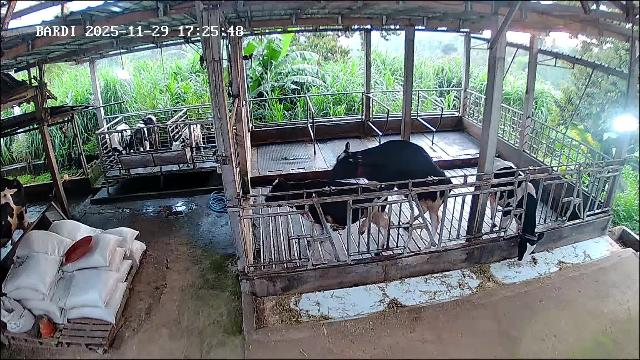mounting: (333, 135, 452, 245)
